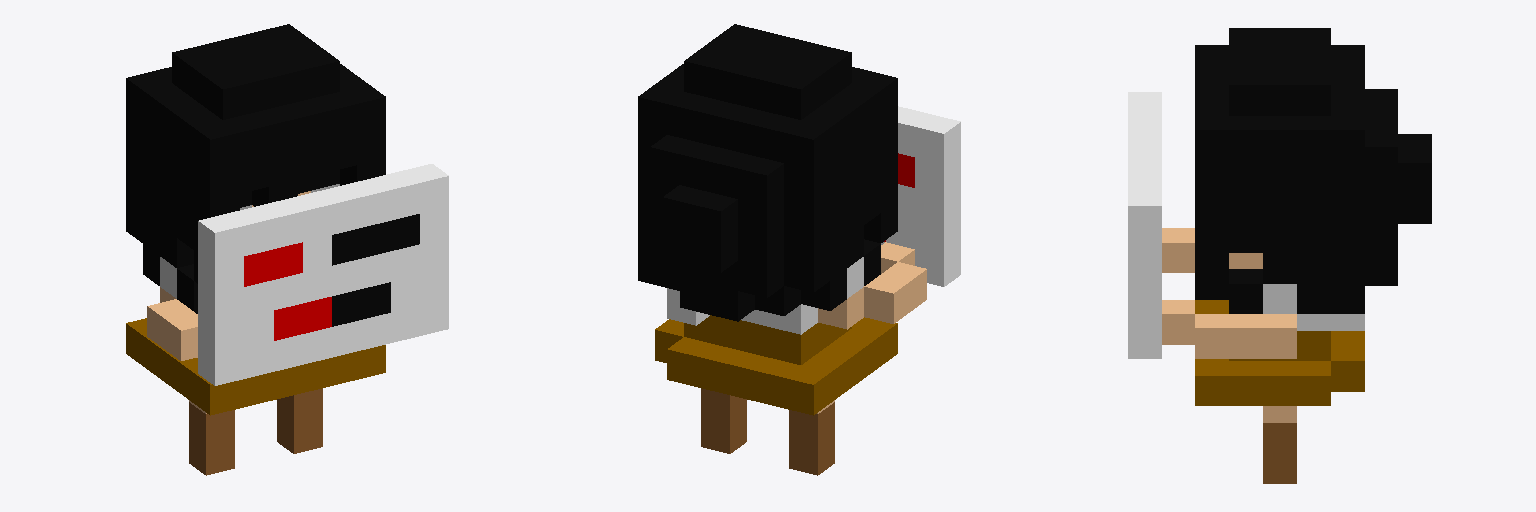
3 renders of one model, left to right at view 1: azimuth 30°, elevation 25°; view 2: azimuth 150°, elevation 25°; view 3: azimuth 270°, elevation 25°, orthographic.
Visible parts, largest first — view 1: object 1; view 2: object 1; view 3: object 1.
Boxes of the visible parts, x1,y1,x2,y2 form: object 1: [126, 24, 448, 475]; object 1: [638, 24, 960, 475]; object 1: [1128, 28, 1431, 483].
Bounding box in the file's own units: 0.8 × 1.3 × 0.9.
1 materials, 1 textured.